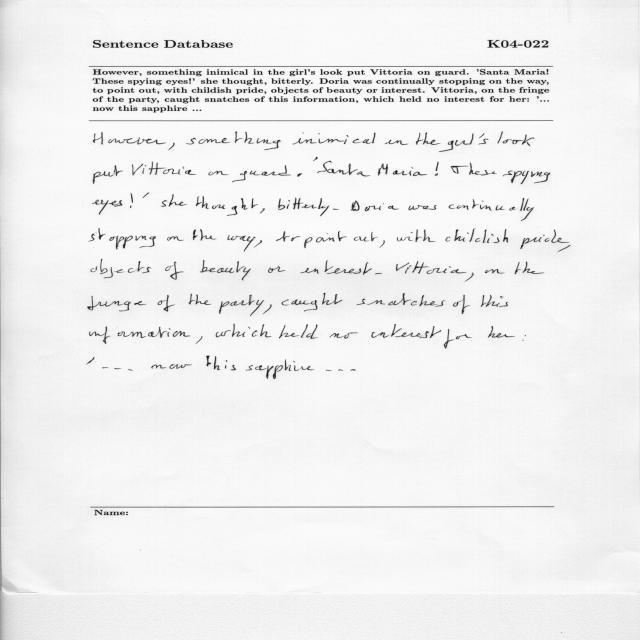word: (449, 198, 534, 221), (90, 326, 191, 344), (186, 132, 281, 150), (416, 132, 488, 152), (89, 229, 156, 250), (246, 360, 314, 379), (357, 293, 446, 307), (196, 196, 258, 216), (91, 259, 151, 279), (219, 295, 272, 316), (300, 260, 372, 275), (200, 260, 251, 280), (232, 165, 291, 182), (371, 324, 441, 338), (278, 198, 329, 217), (292, 293, 343, 312), (93, 132, 166, 145), (446, 229, 508, 244), (396, 261, 467, 274), (132, 162, 196, 176), (88, 296, 146, 311), (317, 161, 370, 176), (304, 231, 347, 248), (216, 324, 272, 337), (292, 133, 349, 145), (503, 171, 550, 185), (451, 163, 497, 176), (227, 235, 262, 252), (378, 164, 427, 176), (279, 324, 318, 339), (93, 165, 123, 184), (350, 201, 399, 212), (444, 329, 472, 348), (498, 132, 535, 146), (397, 229, 436, 242), (93, 200, 123, 215), (551, 230, 571, 252), (520, 235, 550, 249), (206, 356, 236, 370), (515, 262, 544, 274), (165, 262, 184, 280), (161, 194, 187, 207), (481, 295, 508, 307), (488, 326, 515, 338), (453, 295, 470, 314), (158, 295, 175, 311), (193, 229, 217, 240), (353, 133, 376, 144), (189, 294, 211, 305), (354, 232, 378, 241), (151, 364, 192, 369), (330, 333, 358, 339), (276, 231, 290, 242), (409, 205, 437, 210), (102, 367, 133, 371), (269, 266, 286, 273), (386, 140, 409, 145), (485, 269, 505, 274), (167, 236, 184, 241), (465, 273, 474, 282), (209, 171, 229, 175), (326, 369, 356, 371), (435, 162, 439, 176), (291, 236, 301, 241), (87, 357, 94, 364), (379, 240, 385, 248), (196, 336, 202, 344), (130, 193, 133, 208), (169, 143, 175, 150), (282, 300, 289, 306), (143, 193, 149, 198), (260, 209, 265, 214), (522, 335, 526, 341), (298, 173, 303, 177), (313, 157, 318, 161), (375, 273, 382, 274), (333, 209, 339, 210)
